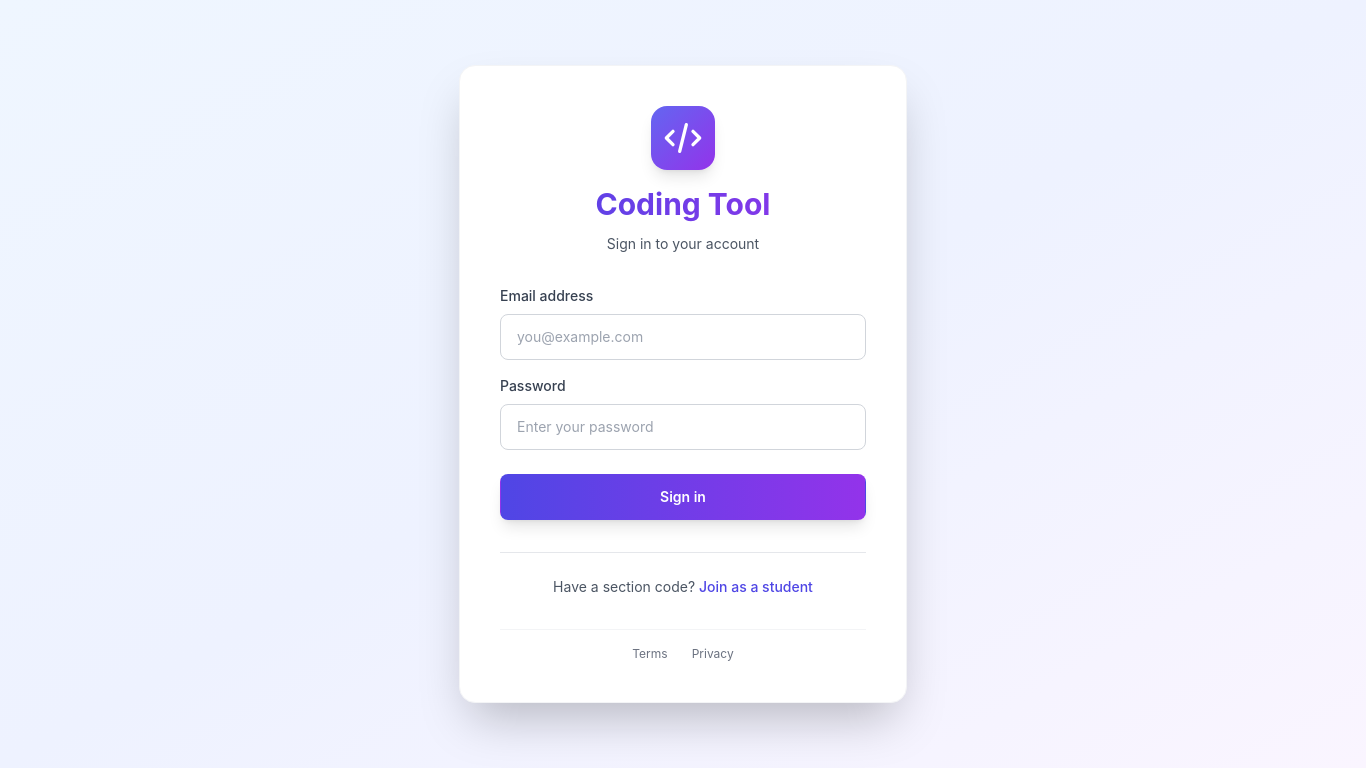
SignInPage › Error Handling › displays error message on sign-in failure
Type "test@example.com" into the field labelled "Email address".
click(683, 337); type("test@example.com")  # box [500, 314, 866, 360]
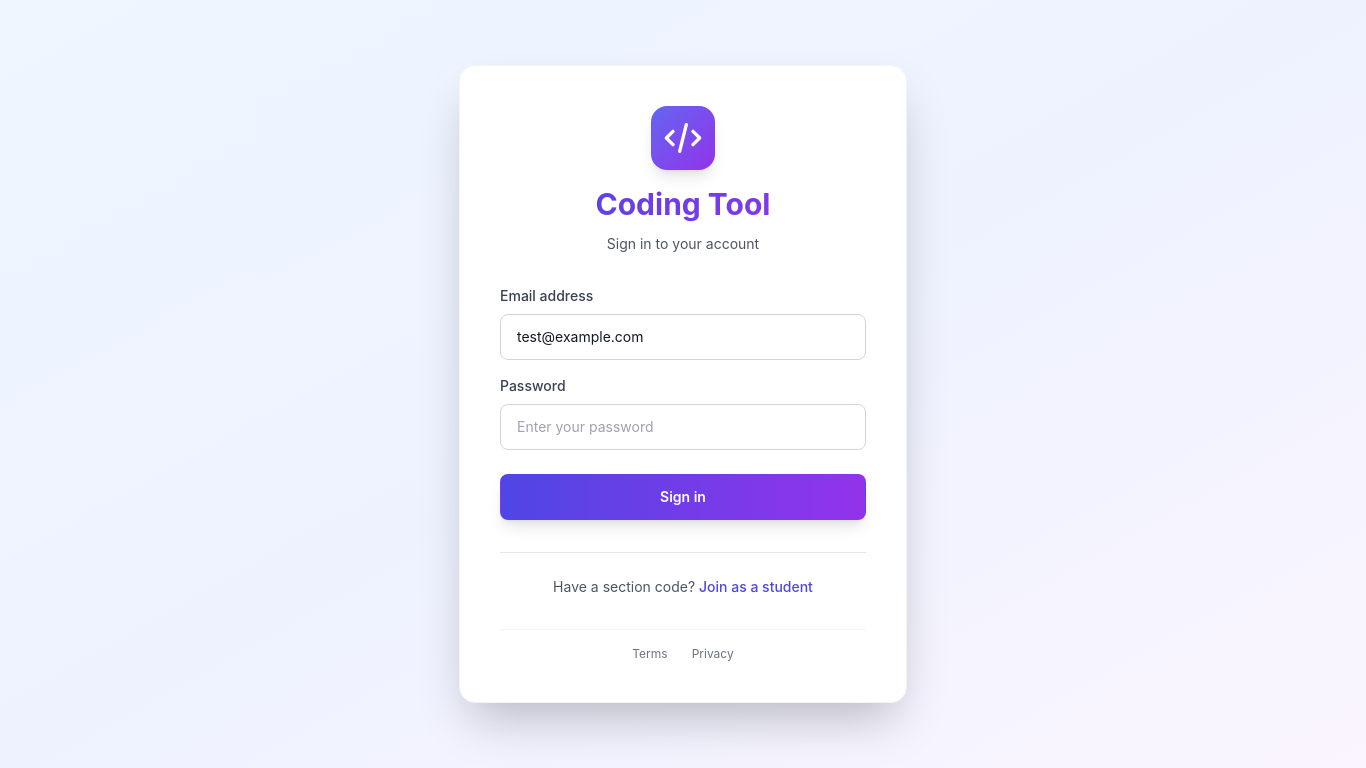
Type "wrongpassword" into the password field labelled "Password".
click(683, 427); type("wrongpassword")  # box [500, 404, 866, 450]
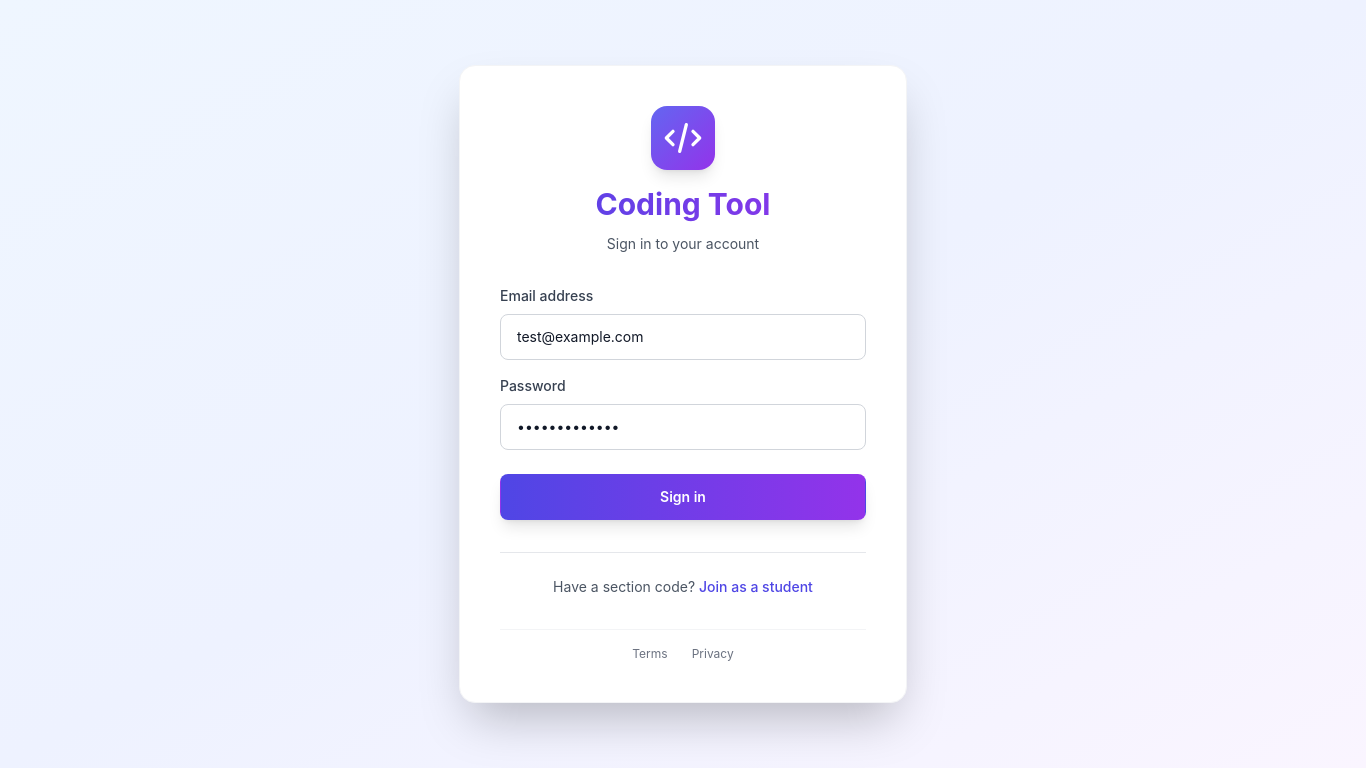
Click the button "Sign in".
click(683, 497)  # box [500, 474, 866, 520]
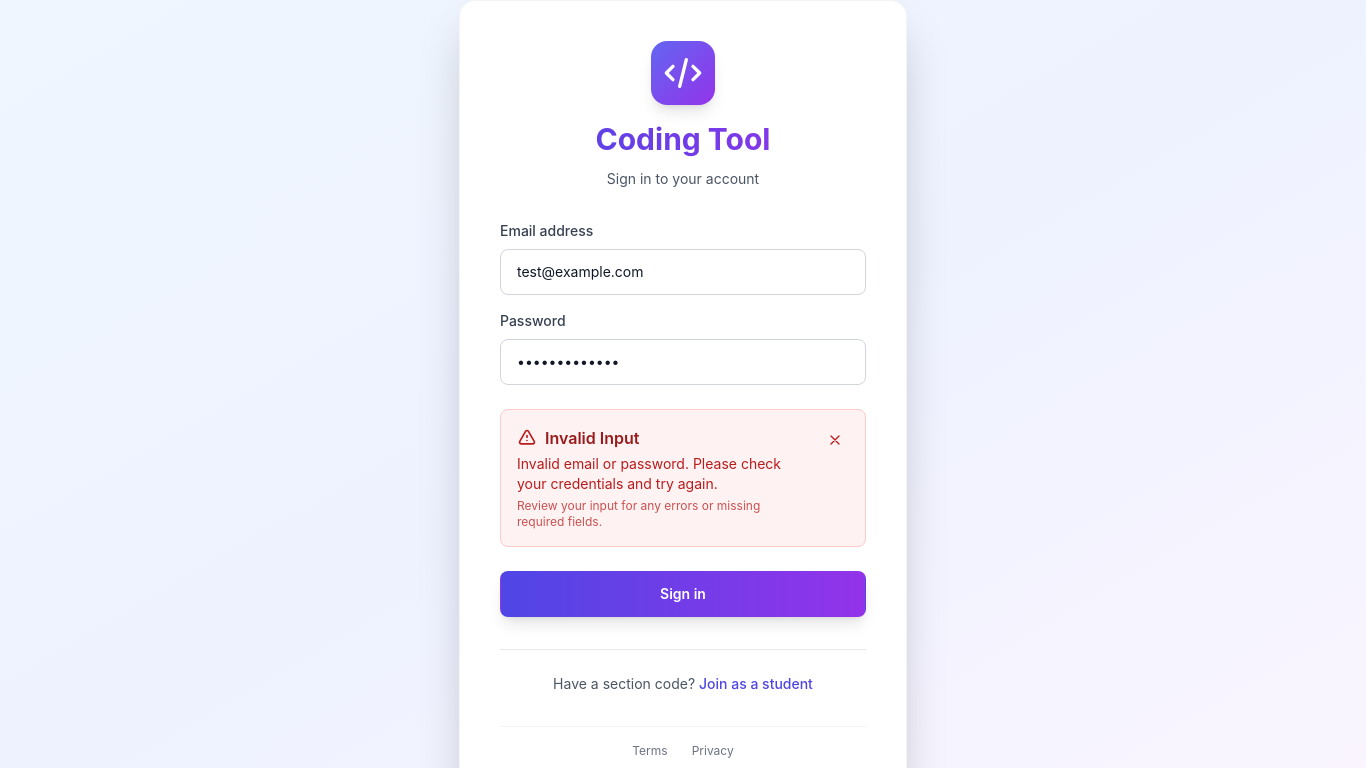
Result: the message is shown at [500, 409, 866, 547]
Result: the message shows "Invalid email or password" at [517, 455, 781, 492]
